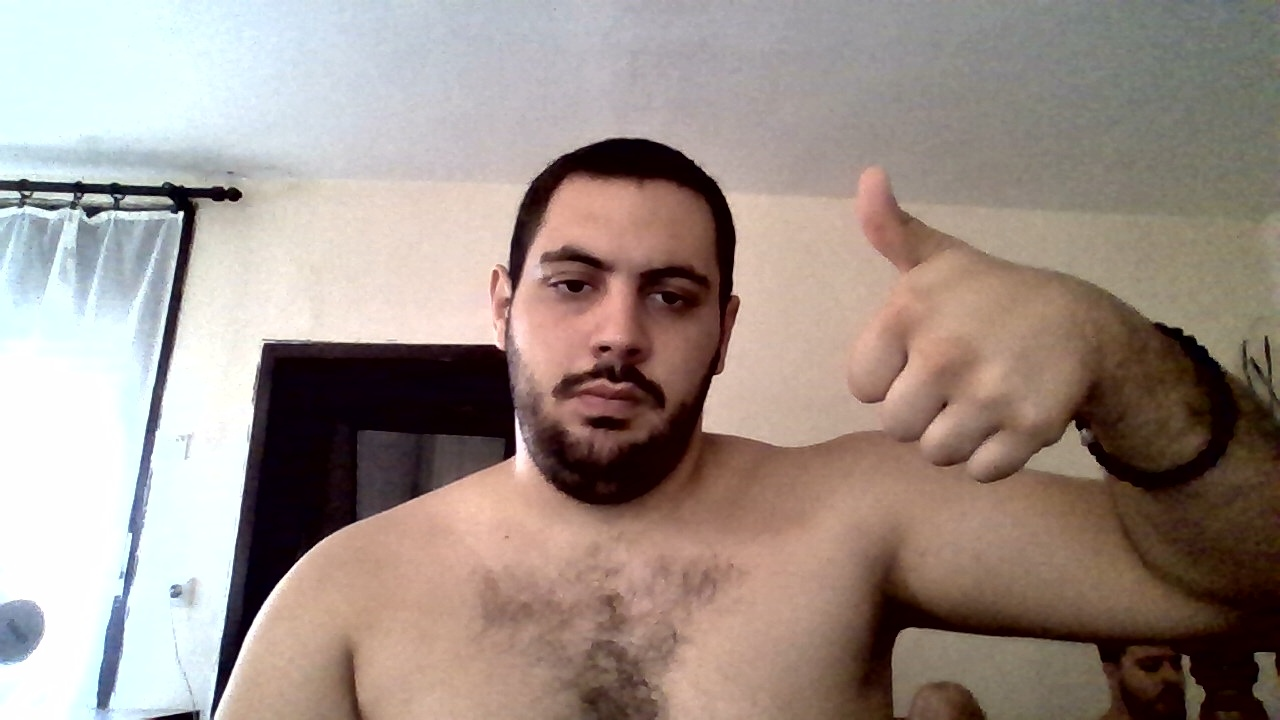like: (831, 165, 1095, 482)
